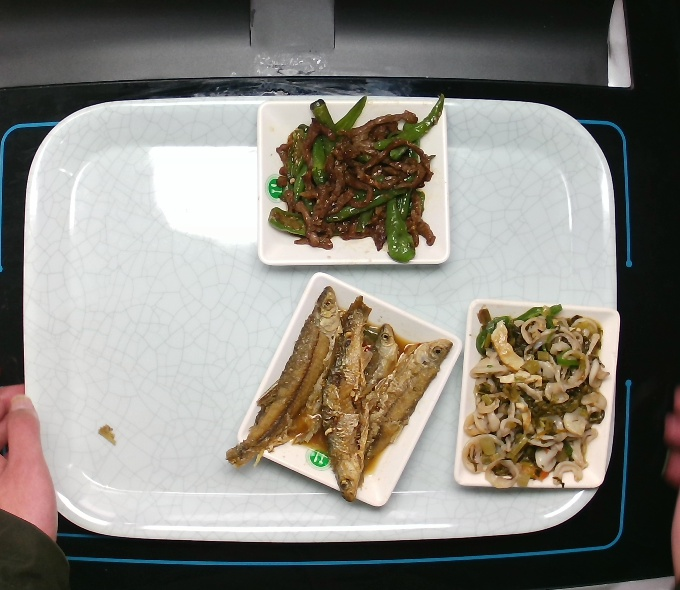wcq-QingJiaoNiuRou: (259, 97, 457, 266)
wcq-XiaoXiYu: (222, 277, 455, 506)
wcq-XueCaiYouYu: (453, 297, 613, 489)
